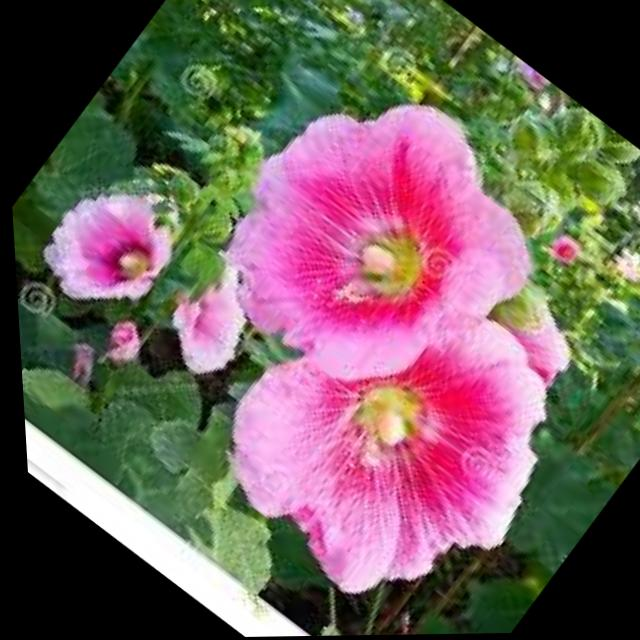Flower: (160, 215, 607, 638), (167, 39, 566, 431), (19, 165, 194, 336)
